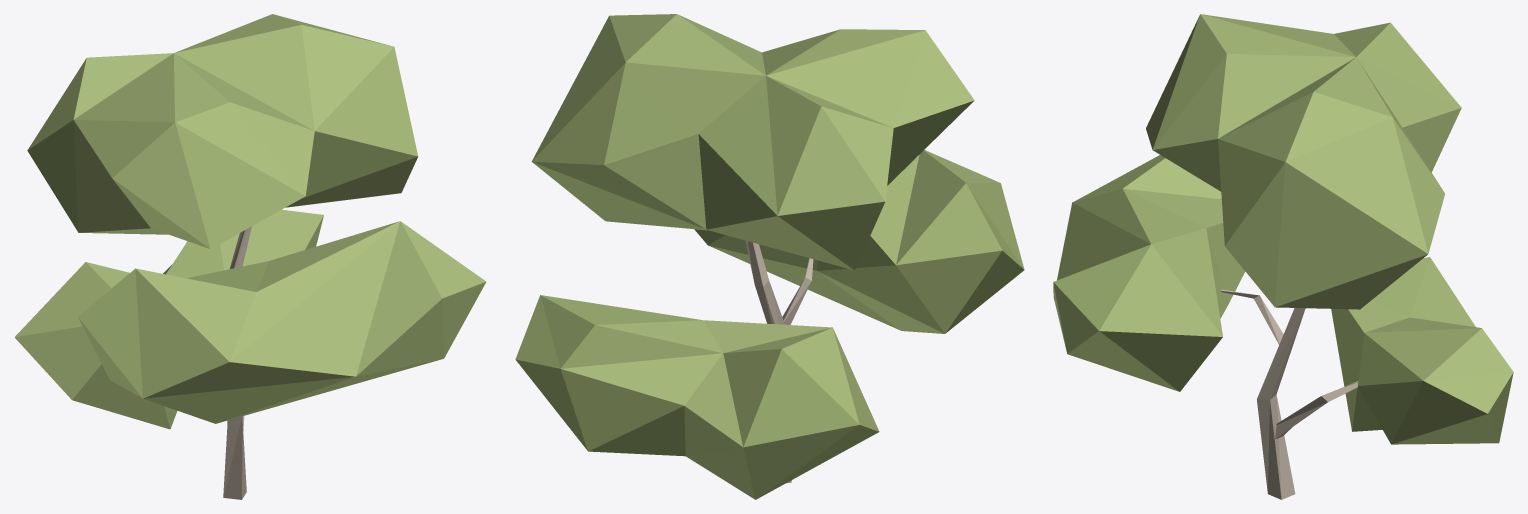
The model's file is SalixAlba.glb.
3 views of the same model, side by side, from view 1: azimuth 30°, elevation 25°; view 2: azimuth 150°, elevation 25°; view 3: azimuth 270°, elevation 25° (orthographic). The views are drawn at different scales.
Parts seen in each view (by area): view 1: Crown, Trunk; view 2: Crown, Trunk; view 3: Crown, Trunk.
Boxes of the visible parts, box(x1,y1,x2,y2) form: Crown: box(14, 14, 486, 429); Trunk: box(223, 226, 251, 499); Crown: box(515, 14, 1024, 499); Trunk: box(745, 240, 813, 483); Crown: box(1053, 14, 1513, 444); Trunk: box(1220, 289, 1358, 499).
Size of the model in its own units: 17.82 by 21.28 by 20.05.
